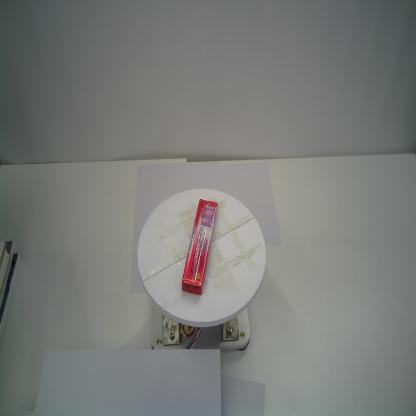Candy: (180, 198, 218, 298)
